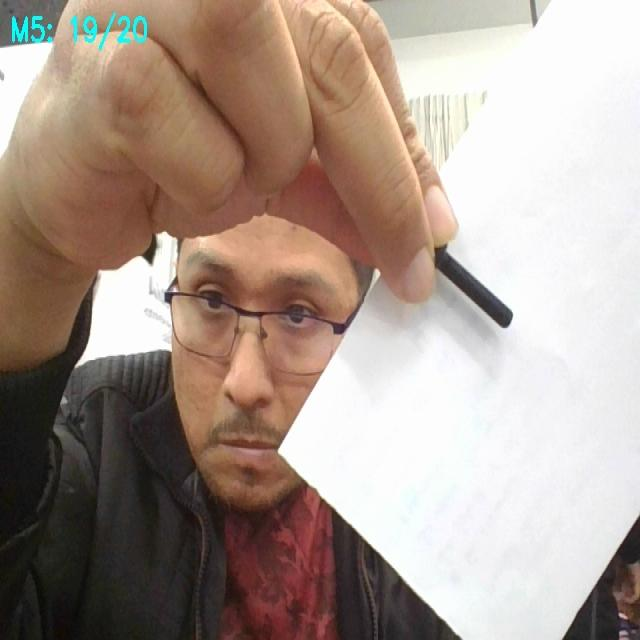vastago: (440, 252, 512, 328)
